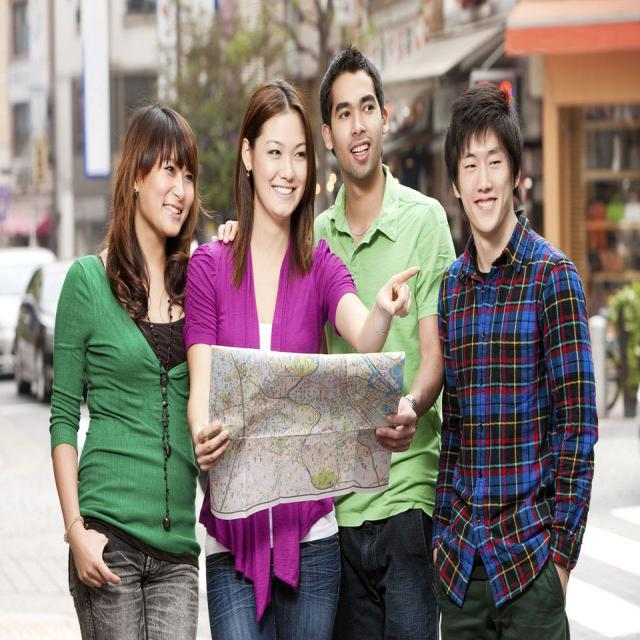body: (179, 72, 427, 639), (46, 97, 255, 639), (425, 74, 604, 639), (309, 41, 458, 639), (583, 105, 640, 269)
